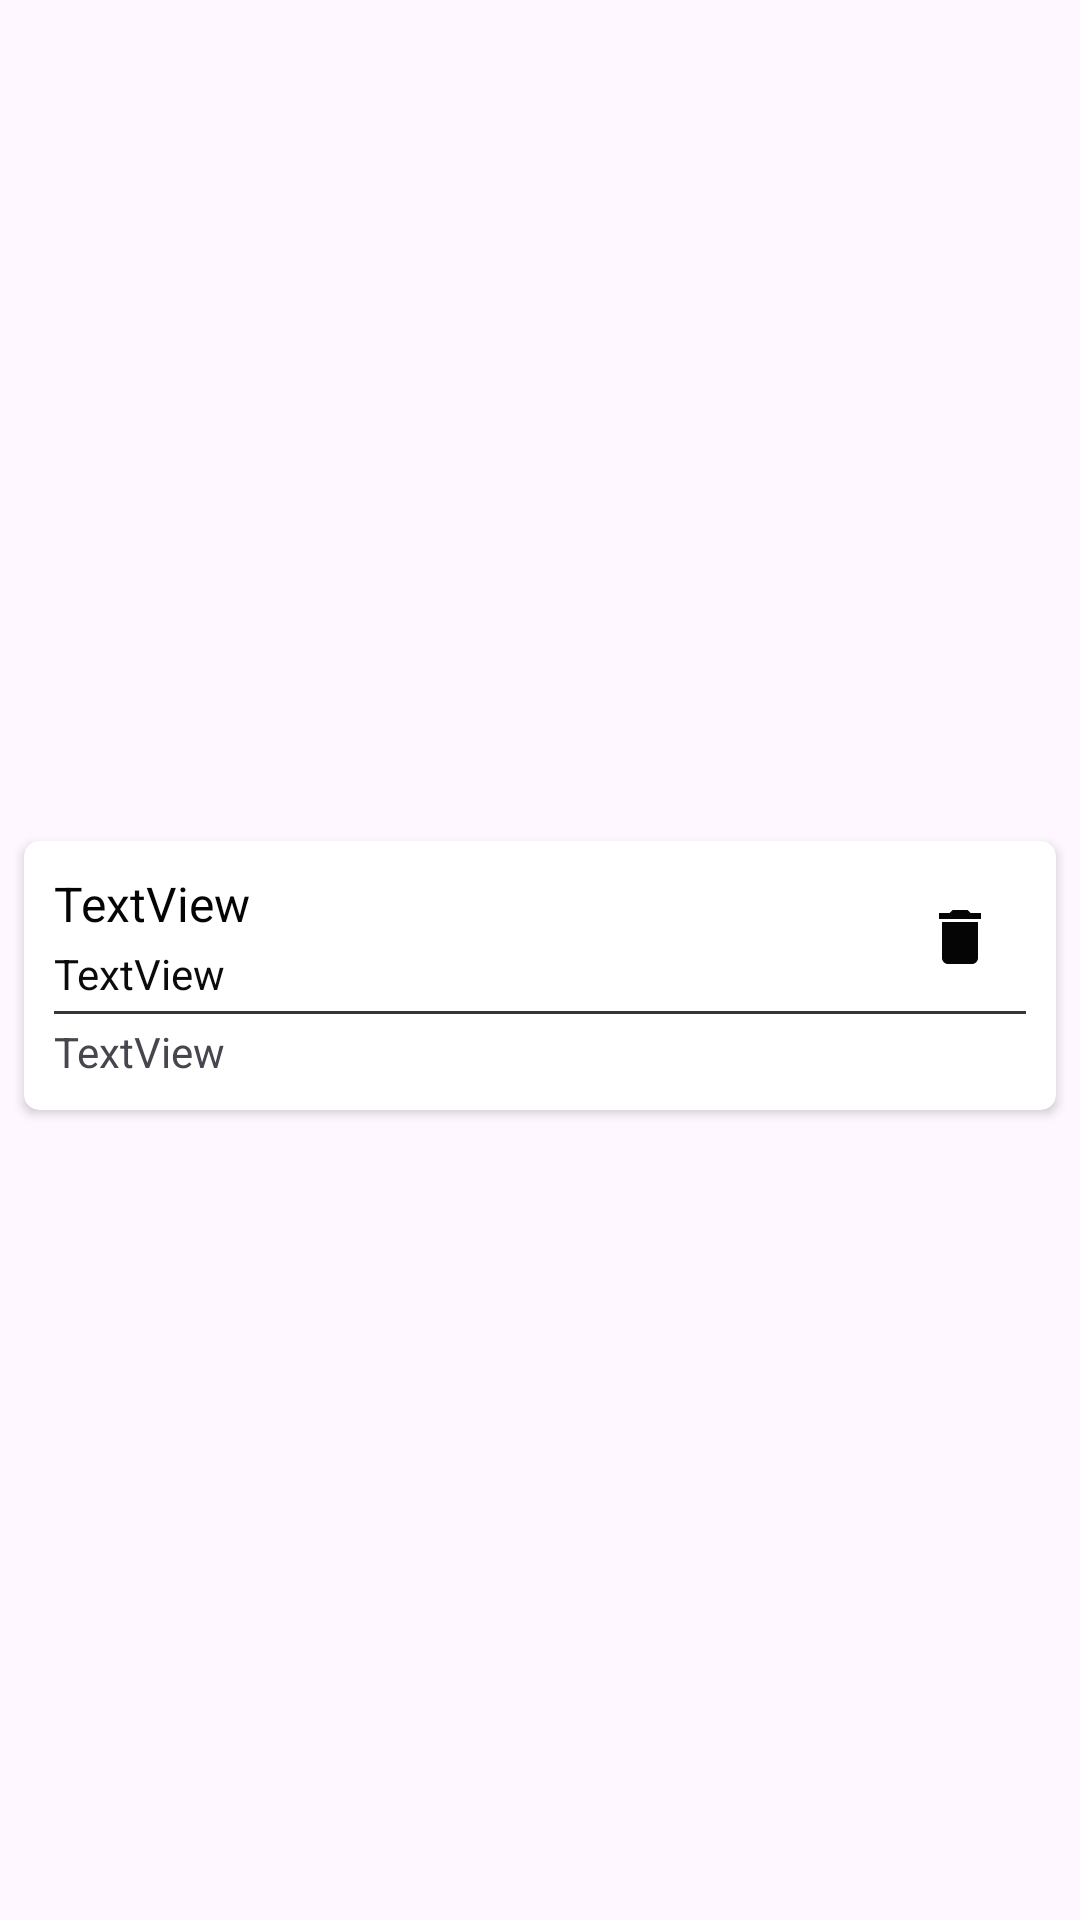

Screen size 1080x1920. Icon name, then its box in pixels as [x1=x1, y1=y1, x2=x2, y2=y2]:
delete: [x1=939, y1=910, x2=981, y2=964]
